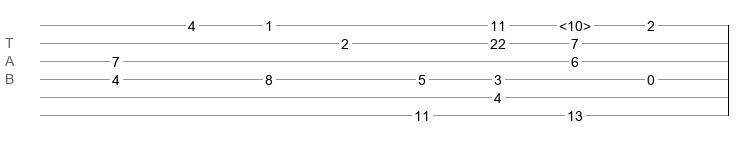0: (647, 72, 655, 82)
1: (265, 18, 273, 28)
11: (414, 108, 430, 118), (490, 18, 506, 28)
13: (567, 108, 583, 118)
2: (341, 36, 349, 46), (647, 18, 655, 28)
22: (490, 36, 506, 46)
3: (494, 72, 502, 82)
4: (112, 72, 120, 82), (188, 18, 196, 28), (494, 90, 502, 100)
5: (418, 72, 426, 82)
6: (571, 54, 579, 64)
7: (112, 54, 120, 64), (571, 36, 579, 46)
8: (265, 72, 273, 82)
harmonic: (559, 18, 591, 28)
